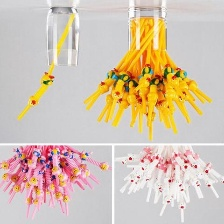drinking_straw: (11, 4, 78, 126)
glass: (43, 2, 82, 70), (124, 2, 171, 52)
